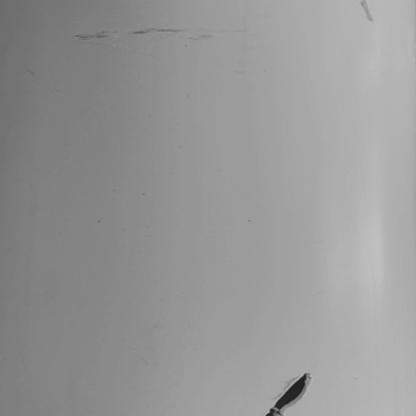kongdong: (259, 375, 312, 416)
sunshang: (68, 28, 208, 42), (355, 1, 377, 21)
